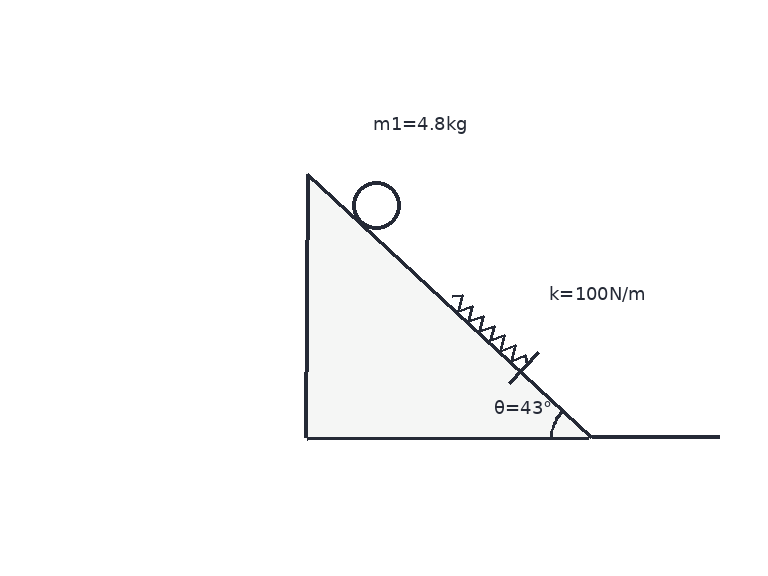ball: (350, 179, 402, 231)
ramp: (305, 171, 593, 440)
spring: (450, 294, 528, 367)
